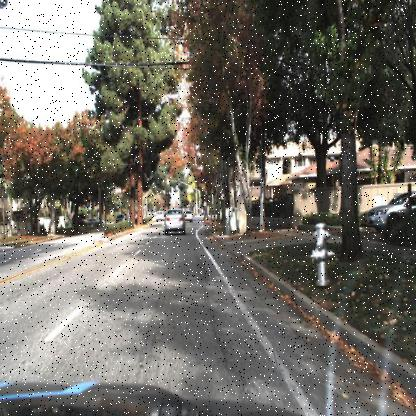car: (368, 192, 416, 239), (158, 202, 192, 243), (181, 203, 195, 224), (112, 210, 127, 227), (154, 210, 166, 224)
